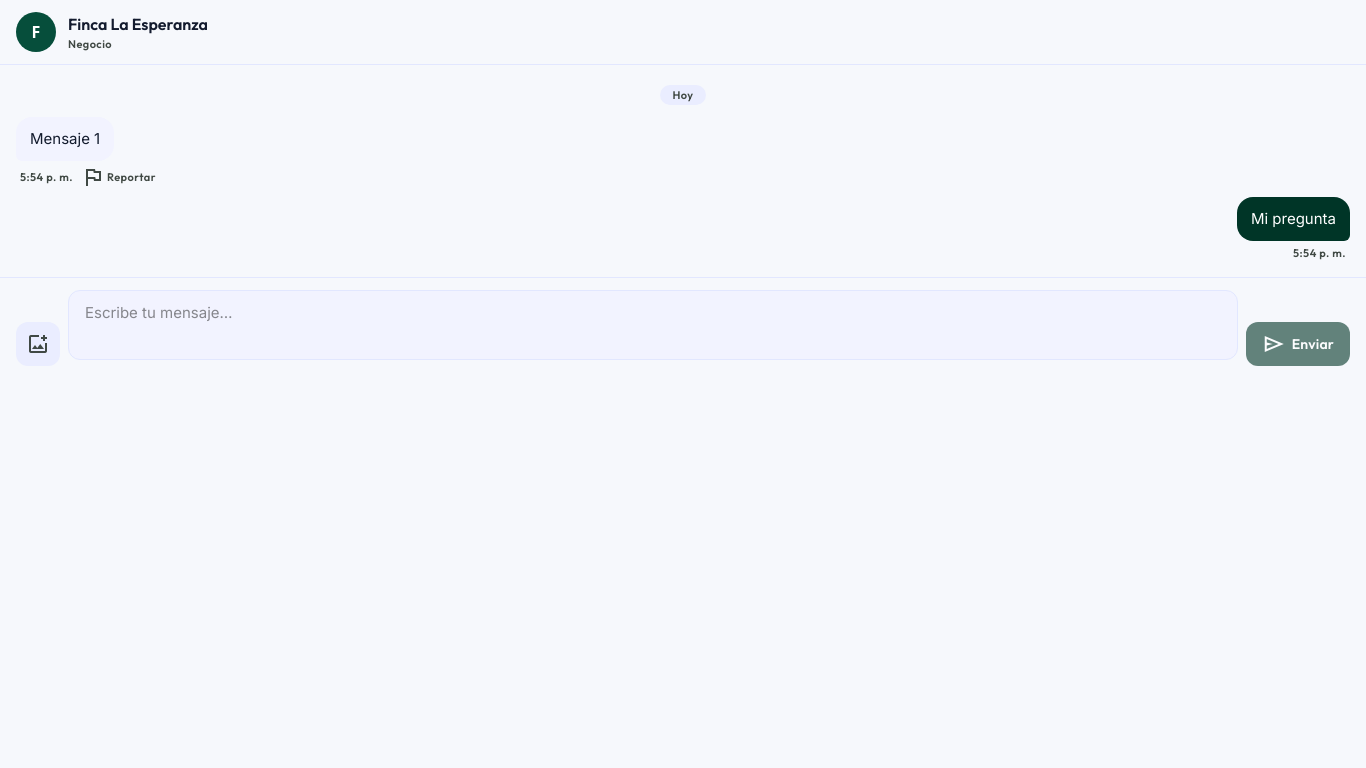
HiloConversacion › se puede reportar un mensaje de la otra persona eligiendo un motivo
The image size is (1366, 768).
Expected: the text "Mensaje 1" is shown, [30,127,100,151]
Click the button with aria-label "Reportar este mensaje" at (118, 177), box [81,165,156,189]
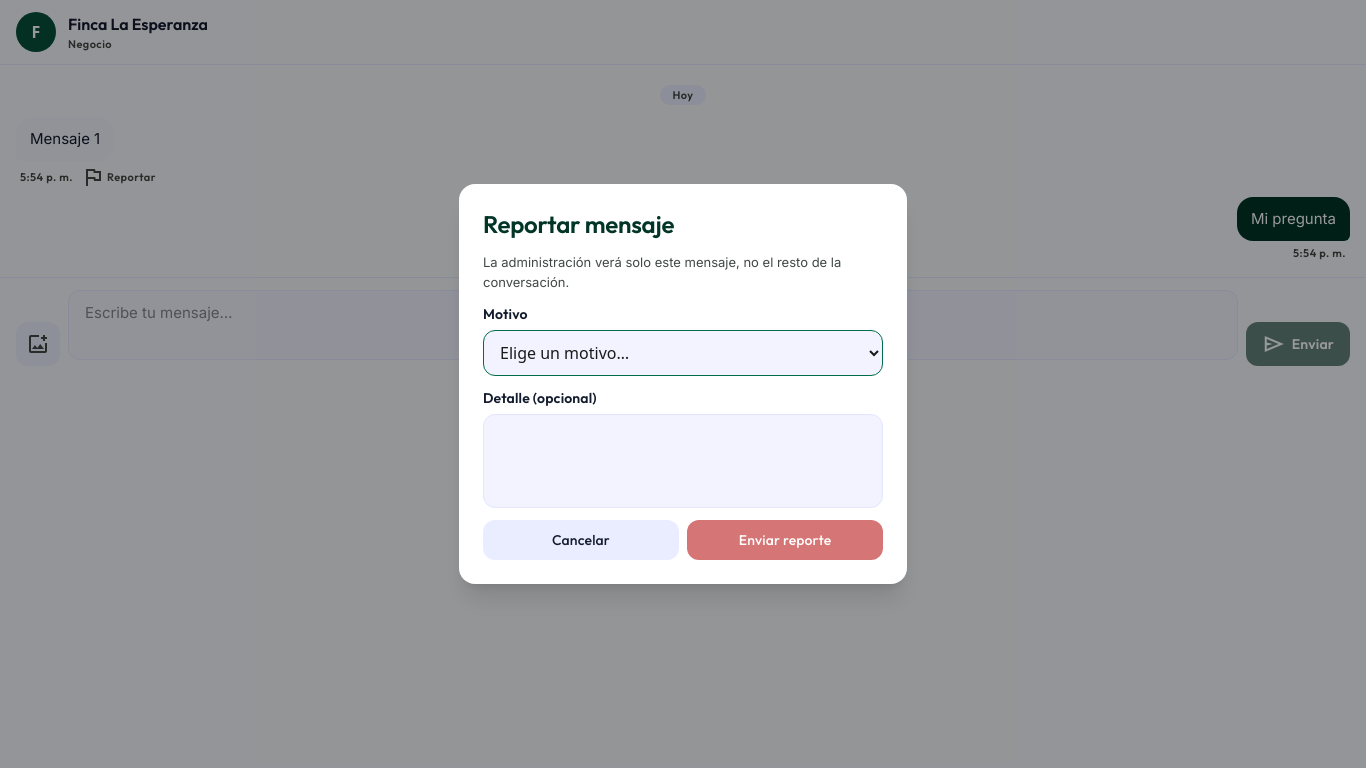
Expected: the button "Enviar reporte" is disabled, [687,520,883,560]
Select "Pide datos personales o pagos de forma sospechosa" in the dropdown labelled "Motivo" at (683, 353), box [483,330,883,376]
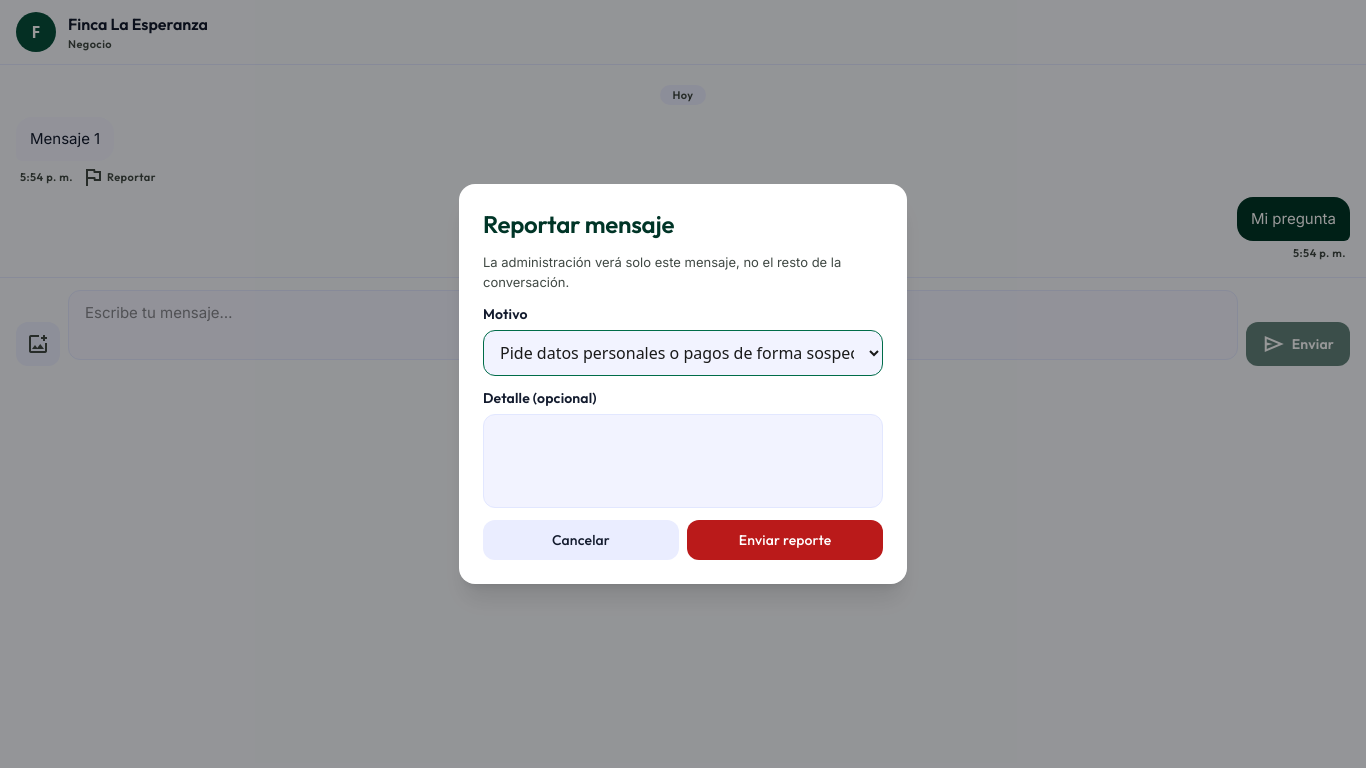
Type "  Pide pagar por fuera  " into the text box labelled "Detalle (opcional)" at (683, 461), box [483,414,883,508]
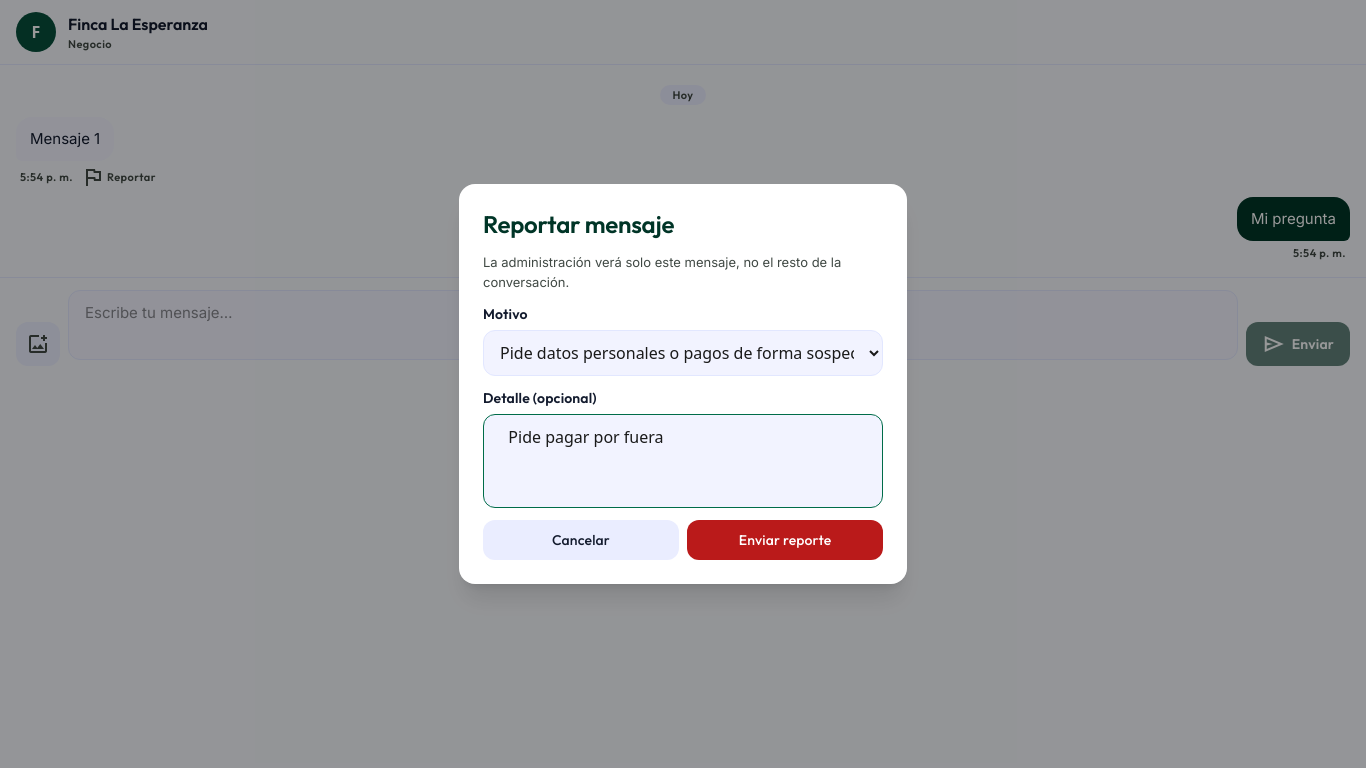
Click the button "Enviar reporte" at (785, 540), box [687,520,883,560]
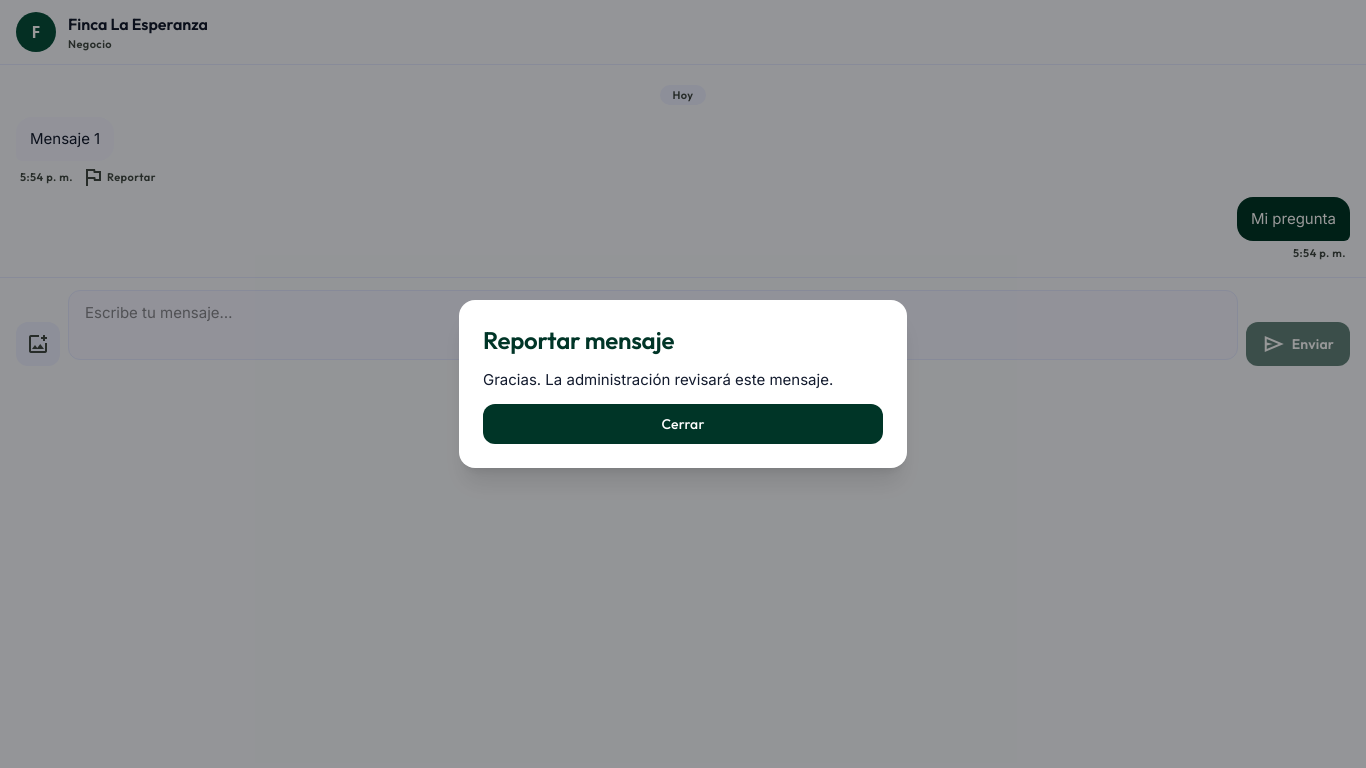
Expected: the message shows "La administración revisará este mensaje.", [483,370,833,389]
